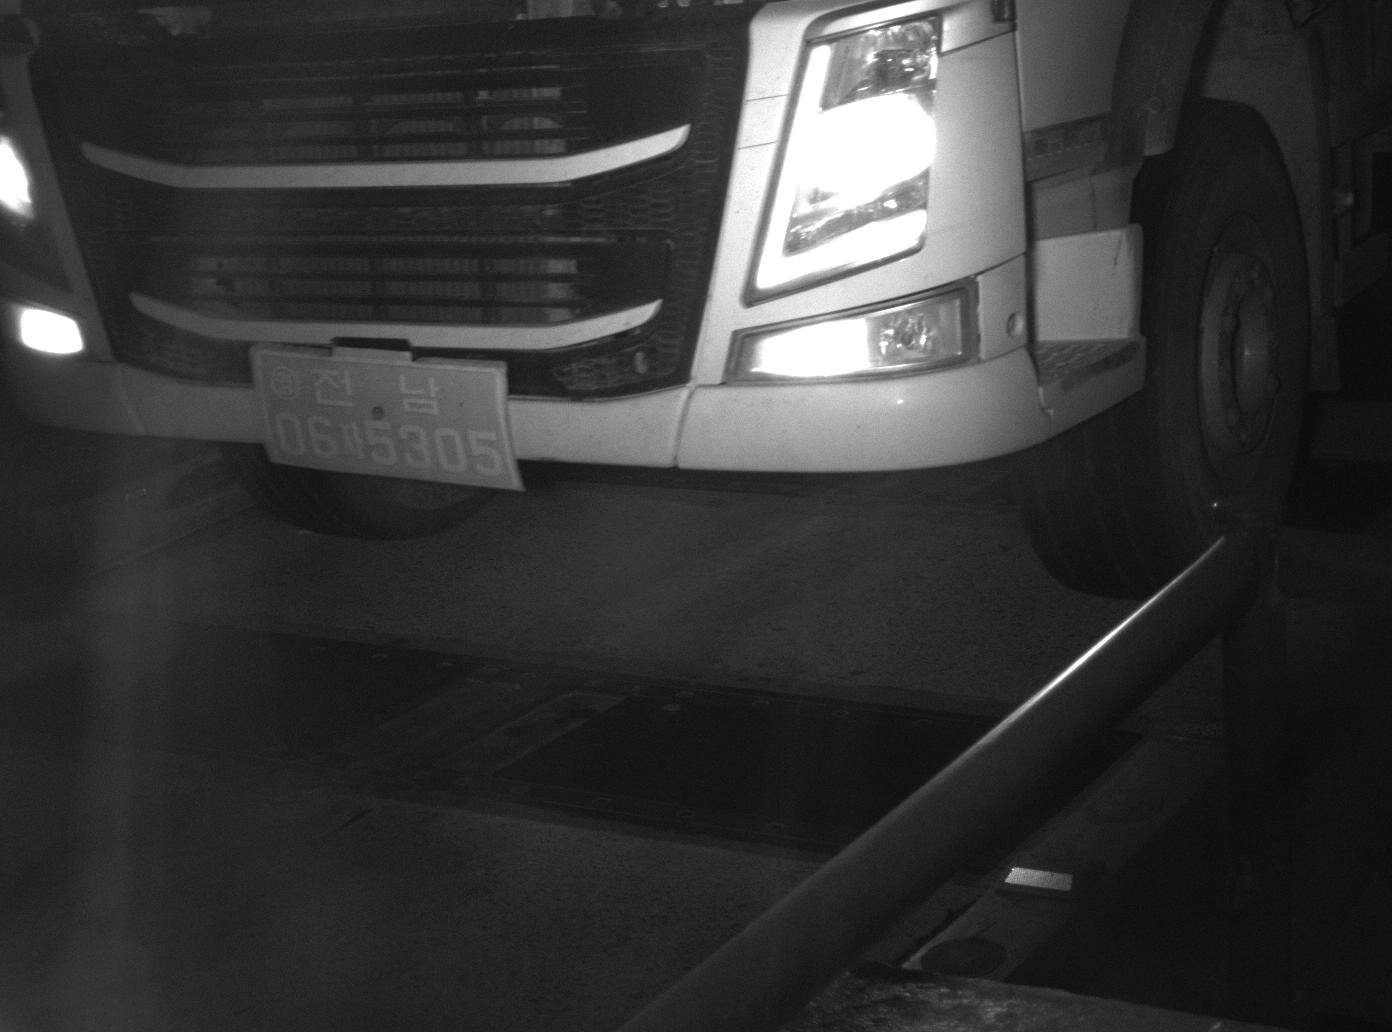car: (1, 1, 1389, 604)
plate: (247, 346, 531, 493)
